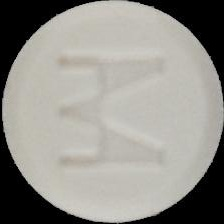0615-3533: (0, 0, 224, 224)
